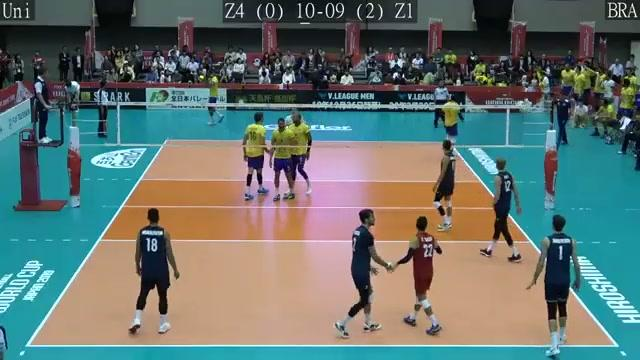ball: (196, 73, 207, 83)
